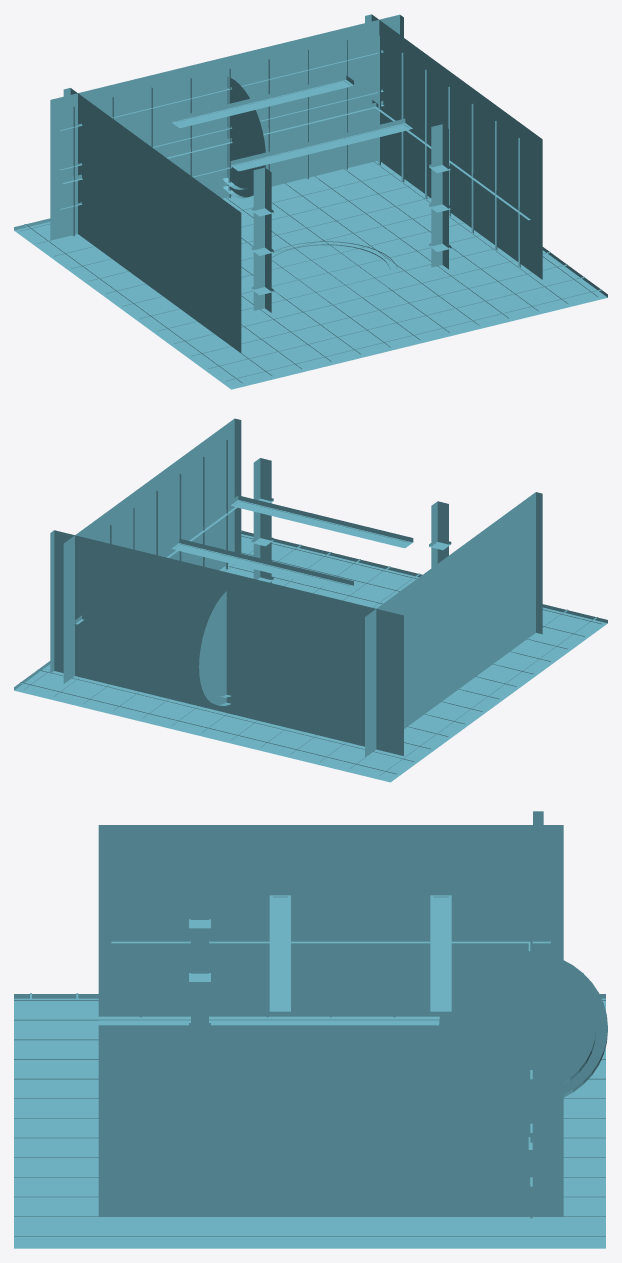
File: neonroom.glb
3 views of the same model, one above another, from view 1: azimuth 30°, elevation 25°; view 2: azimuth 150°, elevation 25°; view 3: azimuth 270°, elevation 25° (orthographic). The views are drawn at different scales.
Visible parts, largest first — view 1: FloorMat, BackWall, WallLeft, WallRight, FloorGrid, FloorRing, CeilingLights, PillarLeft, BackRing, PillarRight, LightStripBack, LightStripRight; view 2: BackWall, WallLeft, FloorMat, WallRight, CeilingLights, FloorGrid, BackRing, PillarRight, PillarLeft; view 3: WallRight, WallLeft, FloorMat, BackRing, FloorGrid, CeilingLights, LightStripLeft, PillarLeft, BackWall, PillarRight.
Part boxes in pixels (x1,y1,x2,y2): FloorMat: [14, 165, 607, 389]; BackWall: [50, 14, 403, 243]; WallLeft: [63, 88, 241, 354]; WallRight: [365, 14, 542, 281]; FloorGrid: [20, 160, 601, 383]; FloorRing: [271, 241, 397, 302]; CeilingLights: [171, 75, 413, 171]; PillarLeft: [251, 167, 273, 315]; BackRing: [223, 77, 265, 198]; PillarRight: [429, 124, 451, 272]; LightStripBack: [62, 101, 384, 183]; LightStripRight: [372, 100, 530, 220]; BackWall: [50, 530, 403, 758]; WallLeft: [365, 492, 542, 759]; FloorMat: [14, 530, 607, 782]; WallRight: [63, 418, 241, 685]; CeilingLights: [171, 495, 413, 591]; FloorGrid: [20, 530, 601, 776]; BackRing: [199, 591, 230, 705]; PillarRight: [251, 458, 273, 582]; PillarLeft: [429, 501, 451, 568]; WallRight: [98, 1025, 563, 1221]; WallLeft: [98, 825, 563, 1021]; FloorMat: [14, 994, 605, 1248]; BackRing: [439, 950, 607, 1097]; FloorGrid: [14, 993, 605, 1244]; CeilingLights: [269, 889, 451, 1011]; LightStripLeft: [111, 936, 550, 943]; PillarLeft: [189, 864, 210, 1025]; BackWall: [530, 811, 543, 1234]; PillarRight: [191, 982, 208, 1025].
Bounding box in the file's own units: 14 × 5.12 × 14.05.
